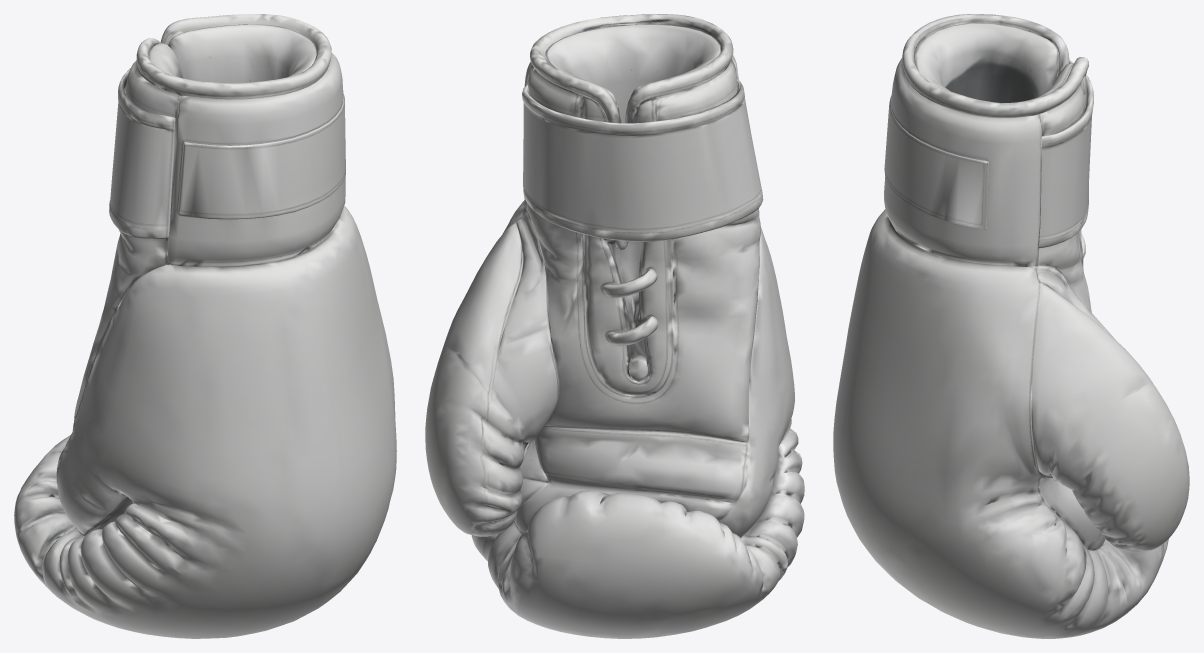
3 renders of one model, left to right at view 1: azimuth 30°, elevation 25°; view 2: azimuth 150°, elevation 25°; view 3: azimuth 270°, elevation 25°, orthographic. The views are drawn at different scales.
Parts seen in each view (by area): view 1: tripo_node_35c12923; view 2: tripo_node_35c12923; view 3: tripo_node_35c12923.
Boxes of the visible parts, left/top/right/bottom form: tripo_node_35c12923: left=14, top=14, right=396, bottom=638; tripo_node_35c12923: left=425, top=14, right=804, bottom=638; tripo_node_35c12923: left=833, top=14, right=1189, bottom=638.
Bounding box in the file's own units: 0.5806 × 0.9995 × 0.5747.
1 material, 1 textured.
